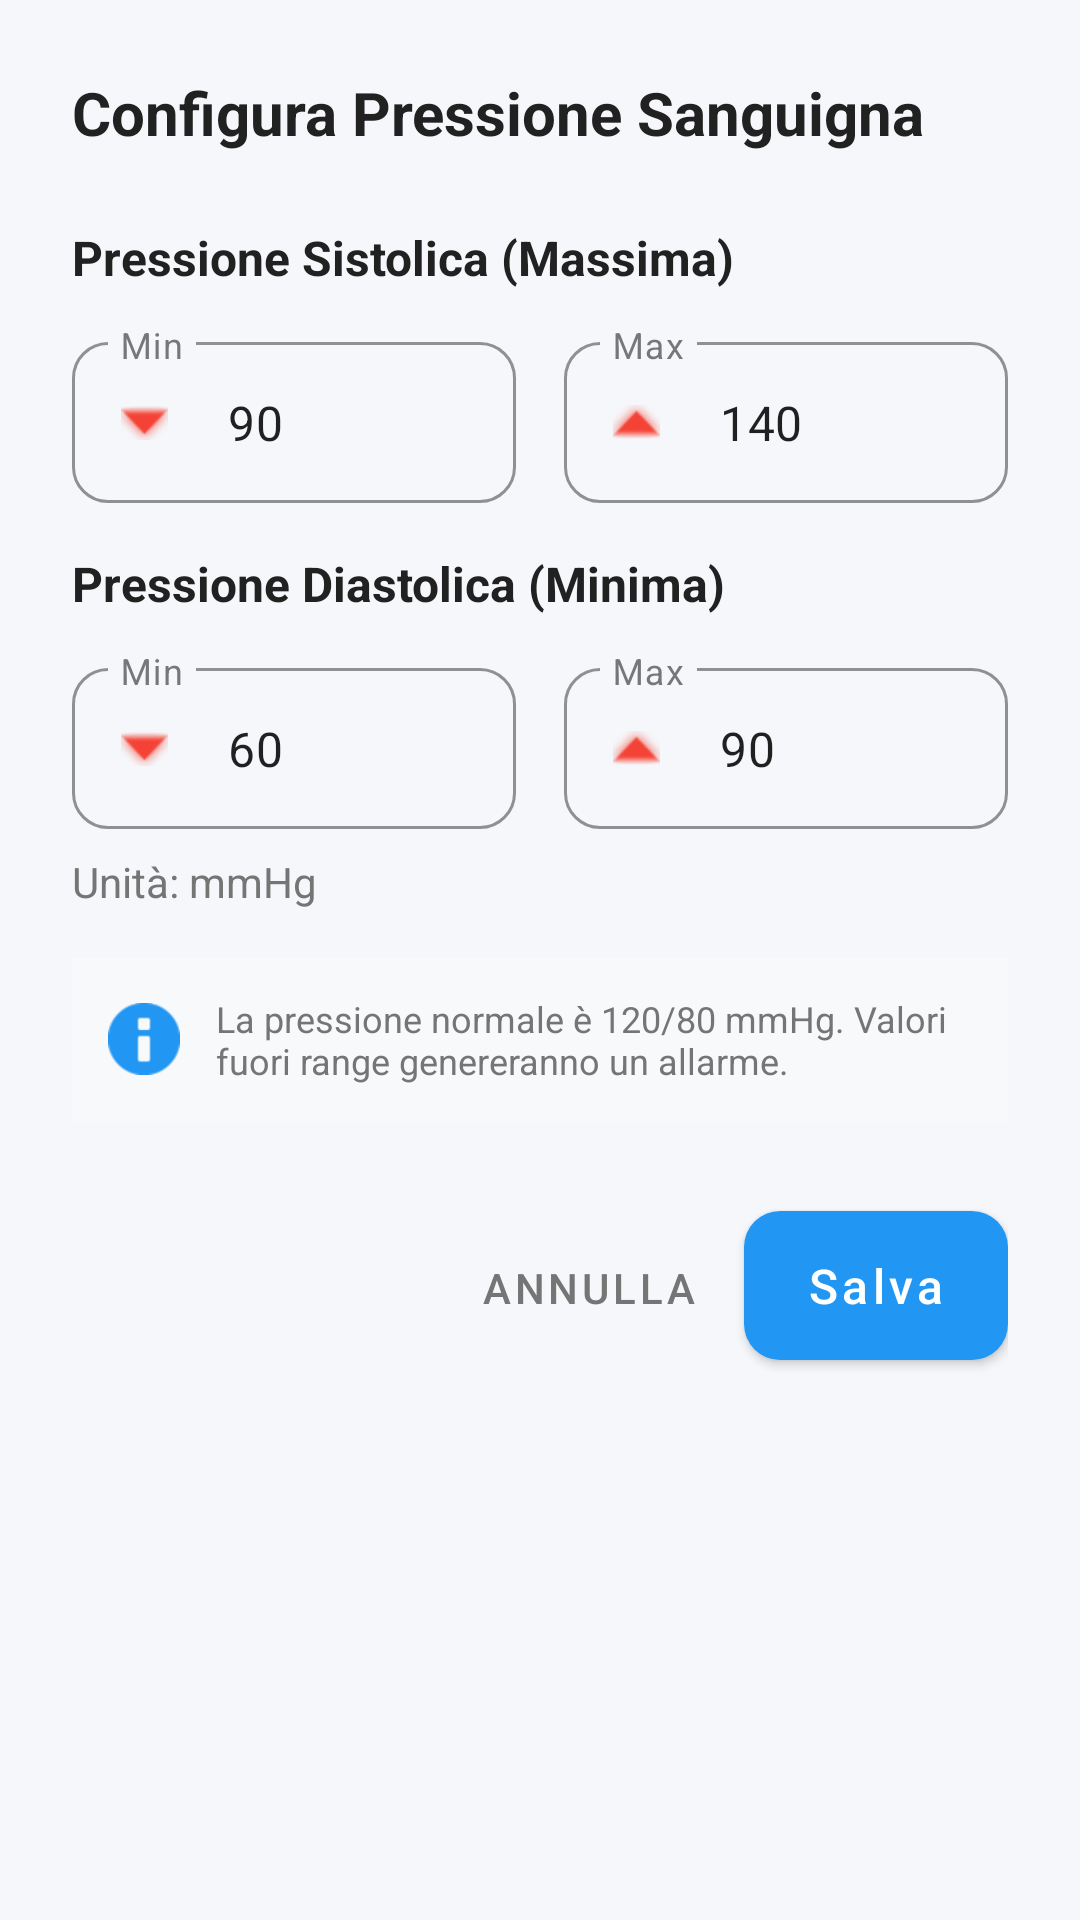

Locate icon controls on the screen. Image size 1080*1920, boxes as (x1, y1, x2, y2).
info: (108, 1003, 180, 1075)
